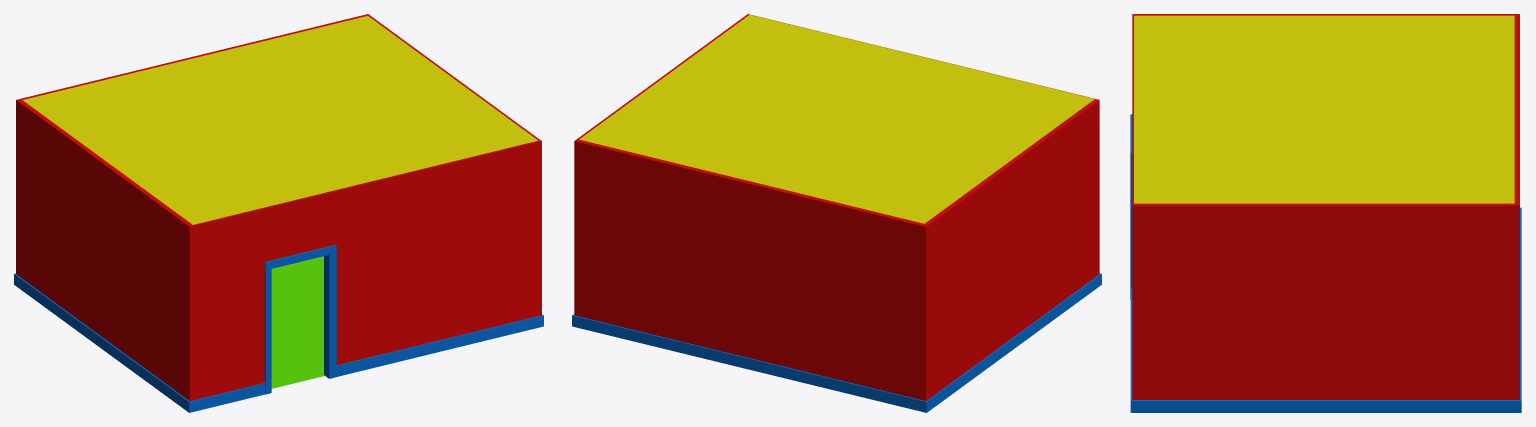
The model's file is Room.fbx.
3 renders of one model, left to right at view 1: azimuth 30°, elevation 25°; view 2: azimuth 150°, elevation 25°; view 3: azimuth 270°, elevation 25°, orthographic. The views are drawn at different scales.
Visible parts, largest first — view 1: Room; view 2: Room; view 3: Room.
Part boxes in pixels (<box>): Room: <box>14,14,543,412</box>; Room: <box>572,14,1101,412</box>; Room: <box>1130,14,1521,412</box>.
Size of the model in its own units: 604 by 302 by 517.
